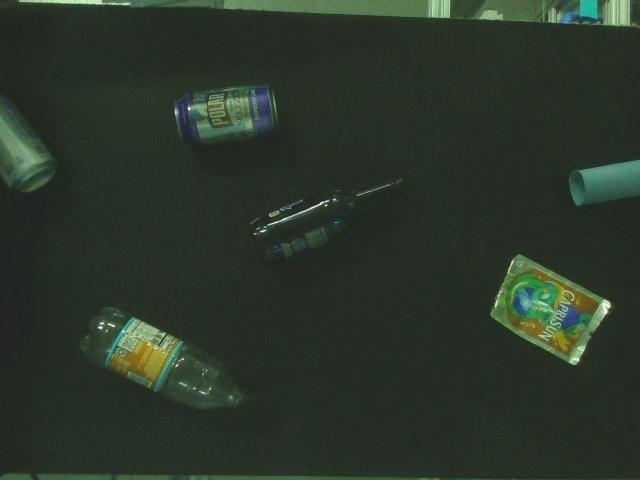cardboard: (566, 158, 640, 212)
glass: (248, 170, 419, 264)
metal: (175, 81, 286, 153), (0, 86, 61, 198)
plastic: (78, 305, 259, 416), (490, 252, 615, 369)
